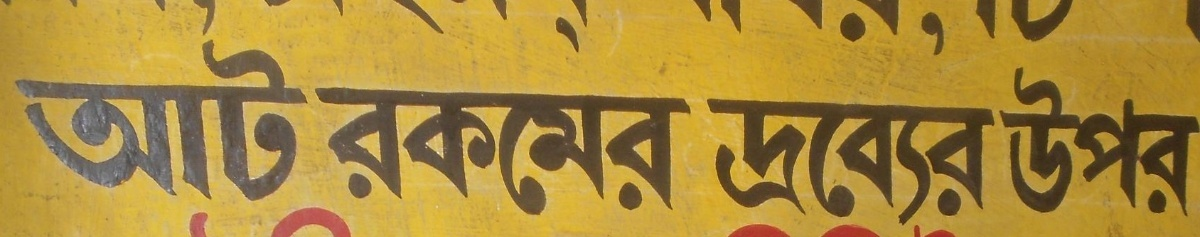text: (17, 23, 32, 203), (33, 23, 48, 203), (49, 23, 64, 203), (65, 23, 80, 203), (81, 23, 96, 203), (97, 23, 112, 203), (113, 23, 128, 203), (129, 23, 144, 203), (145, 23, 160, 203), (161, 23, 176, 203), (177, 23, 192, 203), (193, 23, 208, 203), (209, 23, 224, 203), (225, 23, 240, 203), (241, 23, 256, 203), (257, 23, 272, 203), (273, 23, 288, 203), (289, 23, 304, 203), (1009, 62, 1024, 217), (1025, 62, 1040, 217), (1041, 62, 1056, 217), (1057, 62, 1072, 217), (1073, 62, 1088, 217), (1089, 62, 1104, 217), (1105, 62, 1120, 217), (1121, 62, 1136, 217), (1137, 62, 1152, 217), (1153, 62, 1168, 217), (1169, 62, 1184, 217), (1185, 62, 1199, 217), (321, 88, 336, 220), (337, 88, 352, 220), (353, 88, 368, 220), (369, 88, 384, 220), (385, 88, 400, 220), (401, 88, 416, 220), (417, 88, 432, 220), (433, 88, 448, 220), (449, 88, 464, 220), (465, 88, 480, 220), (481, 88, 496, 220), (497, 88, 512, 220), (513, 88, 528, 220), (529, 88, 544, 220), (545, 88, 560, 220), (561, 88, 576, 220), (577, 88, 592, 220), (593, 88, 608, 220), (609, 88, 624, 220), (625, 88, 640, 220), (641, 88, 656, 220), (657, 88, 672, 220), (673, 88, 688, 220), (721, 95, 736, 226), (737, 95, 752, 226), (753, 95, 768, 226), (769, 95, 784, 226), (785, 95, 800, 226), (801, 95, 816, 226), (817, 95, 832, 226), (833, 95, 848, 226), (849, 95, 864, 226), (865, 95, 880, 226), (881, 95, 896, 226), (897, 95, 912, 226), (913, 95, 928, 226), (929, 95, 944, 226), (945, 95, 960, 226), (961, 95, 976, 226), (977, 95, 992, 226), (997, 62, 1008, 217), (708, 95, 720, 226), (305, 23, 313, 203), (689, 88, 696, 220), (689, 3, 704, 63), (705, 3, 720, 63), (721, 3, 736, 63), (737, 3, 752, 63), (753, 3, 768, 63), (769, 3, 784, 63), (785, 3, 800, 63), (801, 3, 816, 63), (817, 3, 832, 63), (833, 3, 848, 63), (849, 3, 864, 63), (865, 3, 880, 63), (881, 3, 896, 63), (897, 3, 912, 63), (913, 3, 928, 63), (929, 3, 944, 63), (945, 3, 960, 63), (961, 3, 976, 63), (977, 3, 992, 63), (993, 3, 1008, 63), (1009, 3, 1024, 63), (1025, 3, 1040, 63), (1041, 3, 1056, 63), (1057, 3, 1072, 63), (1073, 3, 1088, 63), (273, 2, 288, 55), (289, 2, 304, 55), (305, 2, 320, 55), (321, 2, 336, 55), (337, 2, 352, 55), (353, 2, 368, 55), (369, 2, 384, 55), (385, 2, 400, 55), (401, 2, 416, 55), (417, 2, 432, 55), (433, 2, 448, 55), (449, 2, 464, 55), (465, 2, 480, 55), (481, 2, 496, 55), (497, 2, 512, 55), (513, 2, 528, 55), (529, 2, 544, 55), (545, 2, 560, 55), (561, 2, 576, 55), (577, 2, 592, 55), (12, 23, 16, 203), (1185, 1, 1200, 48), (593, 2, 606, 55), (315, 88, 320, 220), (17, 1, 32, 35), (33, 1, 48, 35), (49, 1, 64, 35), (65, 1, 80, 35), (81, 1, 96, 35), (97, 1, 112, 35), (113, 1, 128, 35), (129, 1, 144, 35), (145, 1, 160, 35), (161, 1, 176, 35), (177, 1, 192, 35), (193, 1, 208, 35), (209, 1, 224, 35), (273, 206, 288, 236), (289, 206, 304, 236), (305, 206, 320, 236), (321, 206, 336, 236), (337, 206, 352, 236), (225, 1, 237, 35), (993, 95, 996, 226), (193, 211, 208, 237), (1177, 1, 1184, 48), (7, 1, 16, 35), (683, 3, 688, 63), (267, 2, 272, 55), (721, 220, 736, 236), (737, 220, 752, 236), (753, 220, 768, 236), (769, 220, 784, 236), (785, 220, 800, 236), (801, 220, 816, 236), (817, 220, 832, 236), (833, 220, 848, 236), (849, 220, 864, 236), (865, 220, 880, 236), (881, 220, 896, 236), (897, 220, 912, 236), (913, 220, 928, 236), (929, 220, 944, 236), (945, 220, 960, 236), (1089, 3, 1092, 63), (961, 220, 967, 236), (190, 211, 192, 237), (718, 220, 720, 236), (271, 206, 272, 236)
